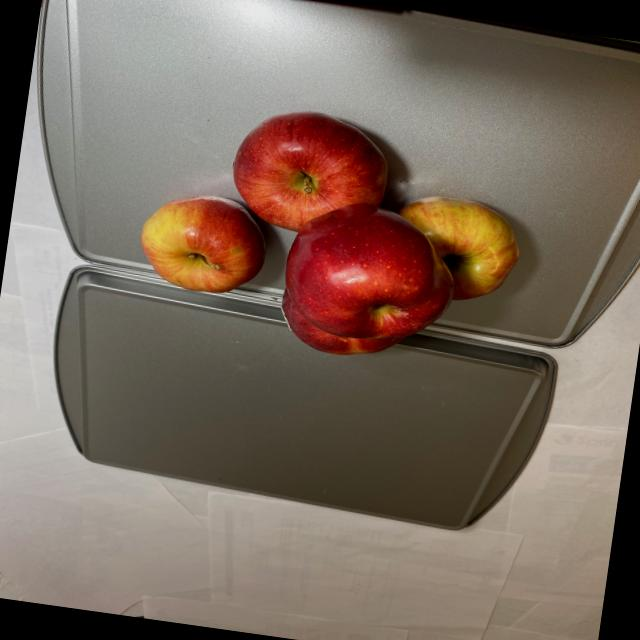apple: (119, 86, 539, 379)
